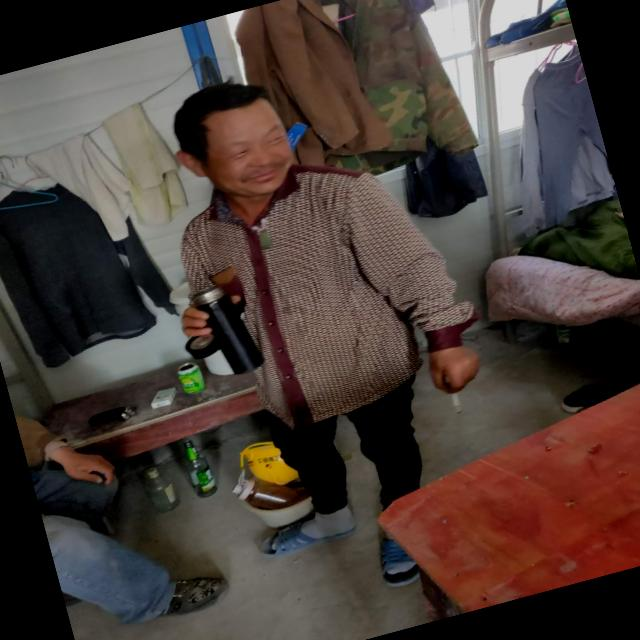smoke: (447, 388, 462, 414)
